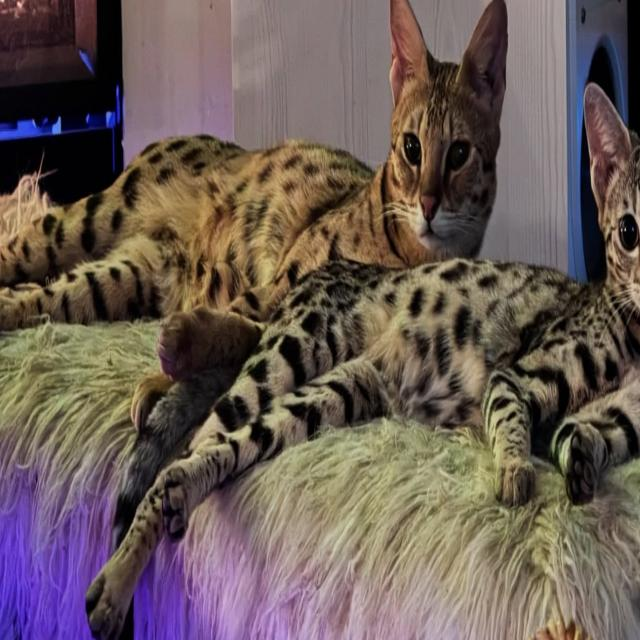Savannah: (0, 0, 509, 336), (484, 80, 640, 516)
